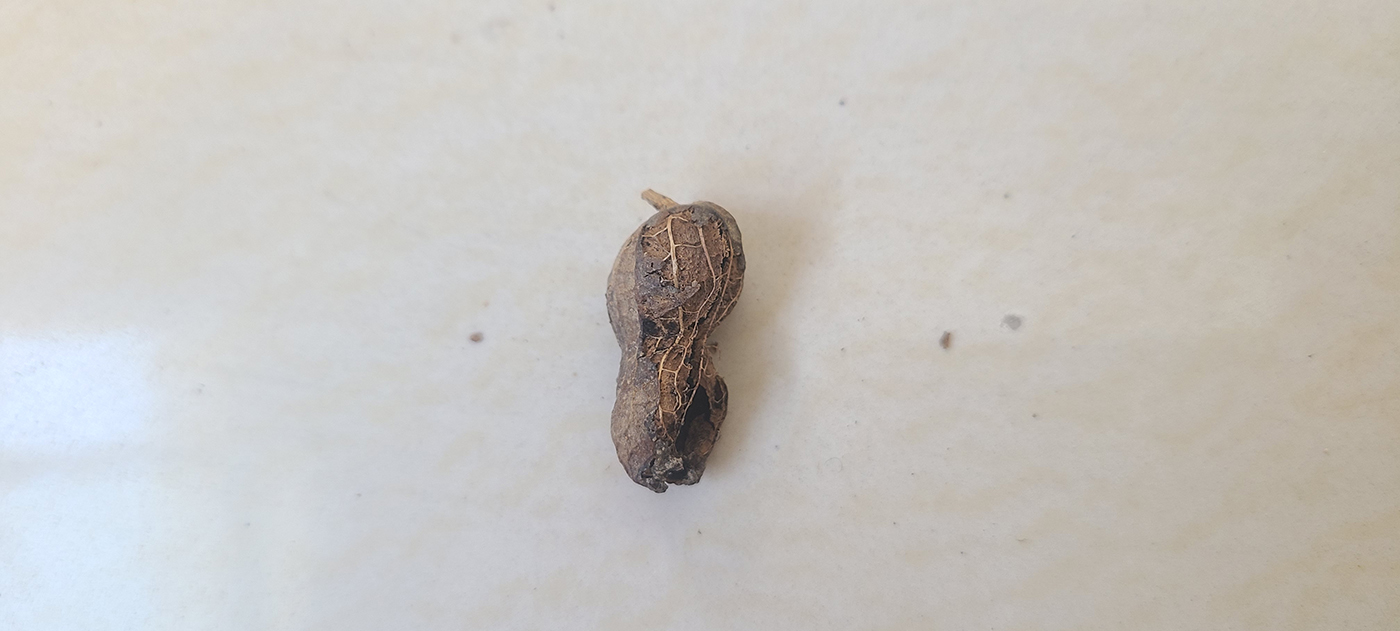l: (604, 202, 747, 492)
